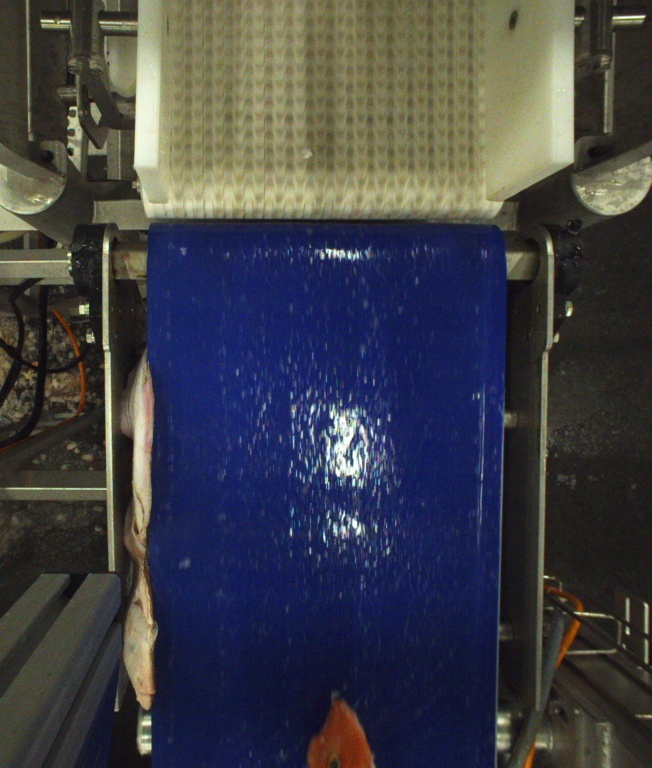GUU: (308, 699, 377, 768)
